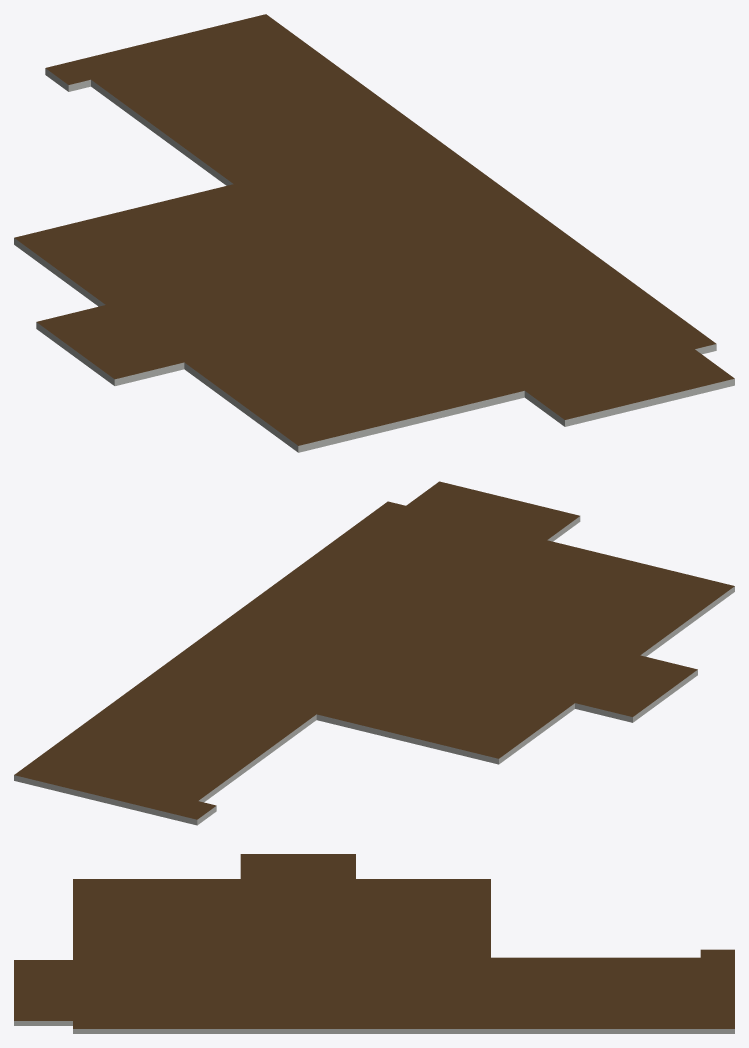
The model's file is slab1.FBX.
3 renders of one model, top to bottom at view 1: azimuth 30°, elevation 25°; view 2: azimuth 150°, elevation 25°; view 3: azimuth 270°, elevation 25°, orthographic. The views are drawn at different scales.
Visible parts, largest first — view 1: 59:1:8; view 2: 59:1:8; view 3: 59:1:8.
Part boxes in pixels (x1=…): 59:1:8: x1=14, y1=14, x2=734, y2=452; 59:1:8: x1=14, y1=481, x2=734, y2=825; 59:1:8: x1=14, y1=854, x2=734, y2=1033.
Size of the model in its own units: 435 by 5.91 by 758.
